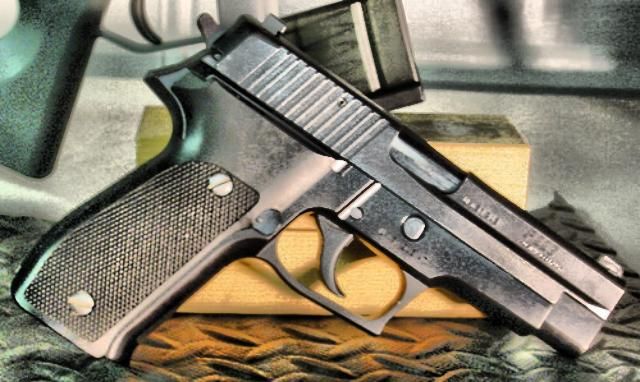pistol: (9, 14, 625, 360)
